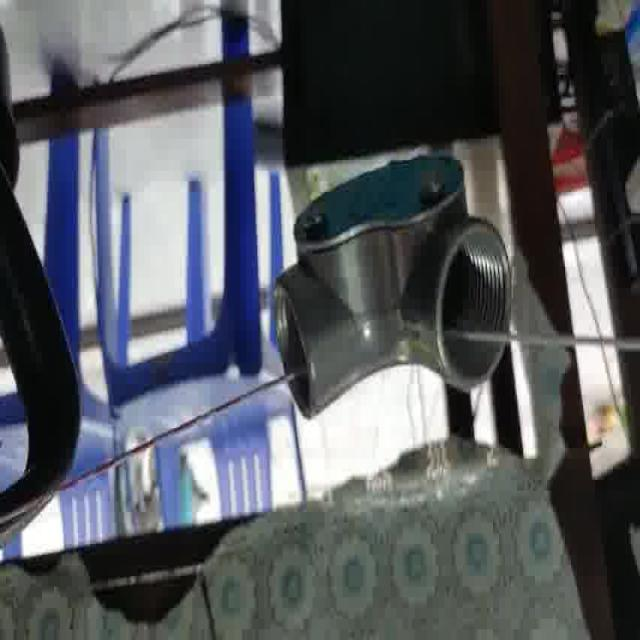Dry Waste: (263, 158, 514, 427)
